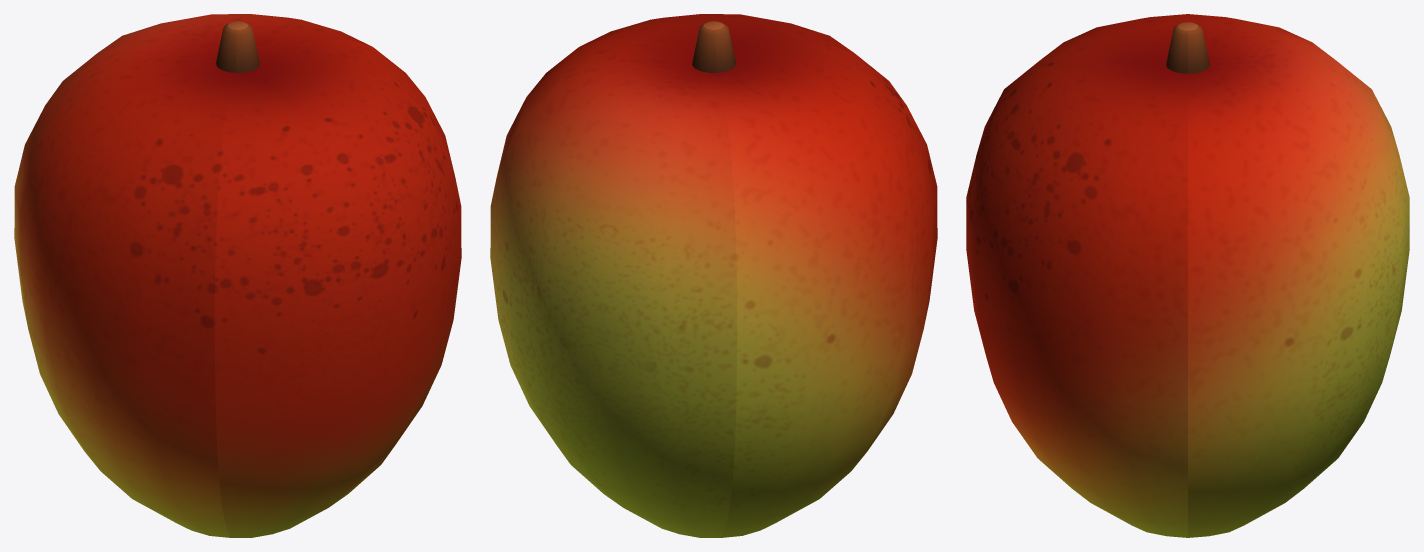
Rendered from Mango_Red_Sliced.fbx.
3 renders of one model, left to right at view 1: azimuth 30°, elevation 25°; view 2: azimuth 150°, elevation 25°; view 3: azimuth 270°, elevation 25°, orthographic.
Parts seen in each view (by area): view 1: Mango_Red_Slice.2, Mango_Red_Slice.1, Mango_Red_Slice.0; view 2: Mango_Red_Slice.0, Mango_Red_Slice.1, Mango_Red_Slice.2; view 3: Mango_Red_Slice.0, Mango_Red_Slice.2, Mango_Red_Slice.1.
Part boxes in pixels (x1=…): Mango_Red_Slice.2: x1=214, y1=23, x2=461, y2=537; Mango_Red_Slice.1: x1=14, y1=24, x2=237, y2=537; Mango_Red_Slice.0: x1=97, y1=14, x2=371, y2=59; Mango_Red_Slice.0: x1=490, y1=23, x2=737, y2=537; Mango_Red_Slice.1: x1=714, y1=24, x2=937, y2=537; Mango_Red_Slice.2: x1=580, y1=14, x2=854, y2=59; Mango_Red_Slice.0: x1=1188, y1=24, x2=1409, y2=537; Mango_Red_Slice.2: x1=966, y1=24, x2=1187, y2=537; Mango_Red_Slice.1: x1=1065, y1=14, x2=1310, y2=57.
Bounding box in the file's own units: 37.44 × 46.47 × 37.03.
